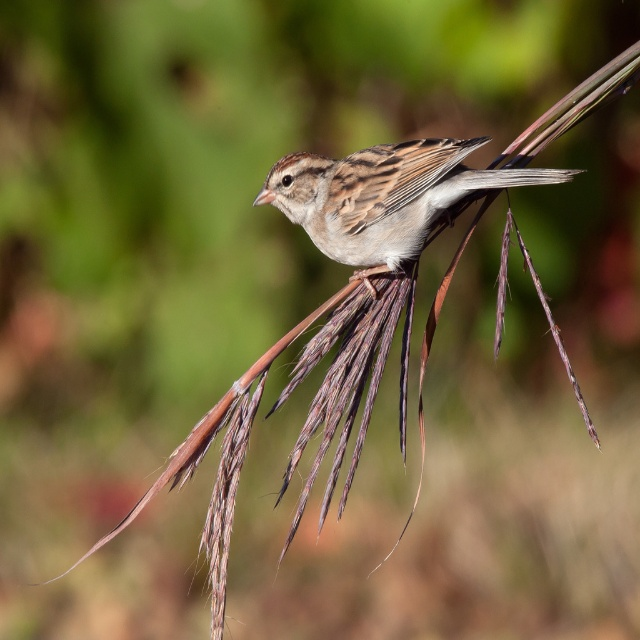Sparrow: (255, 135, 588, 294)
